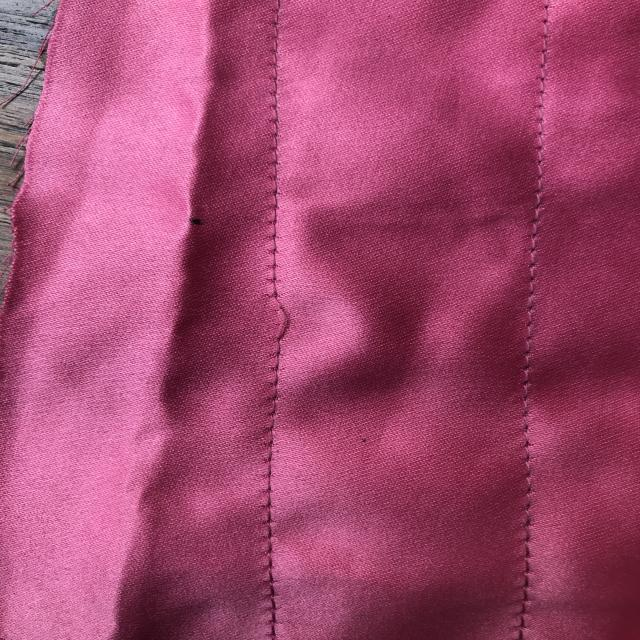good: (512, 241, 549, 379)
skip: (244, 287, 306, 358)
